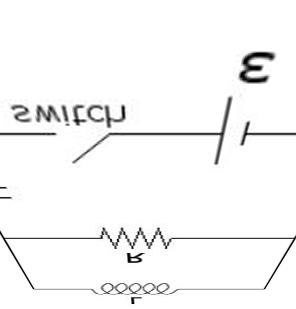inductor: (81, 274, 193, 298)
